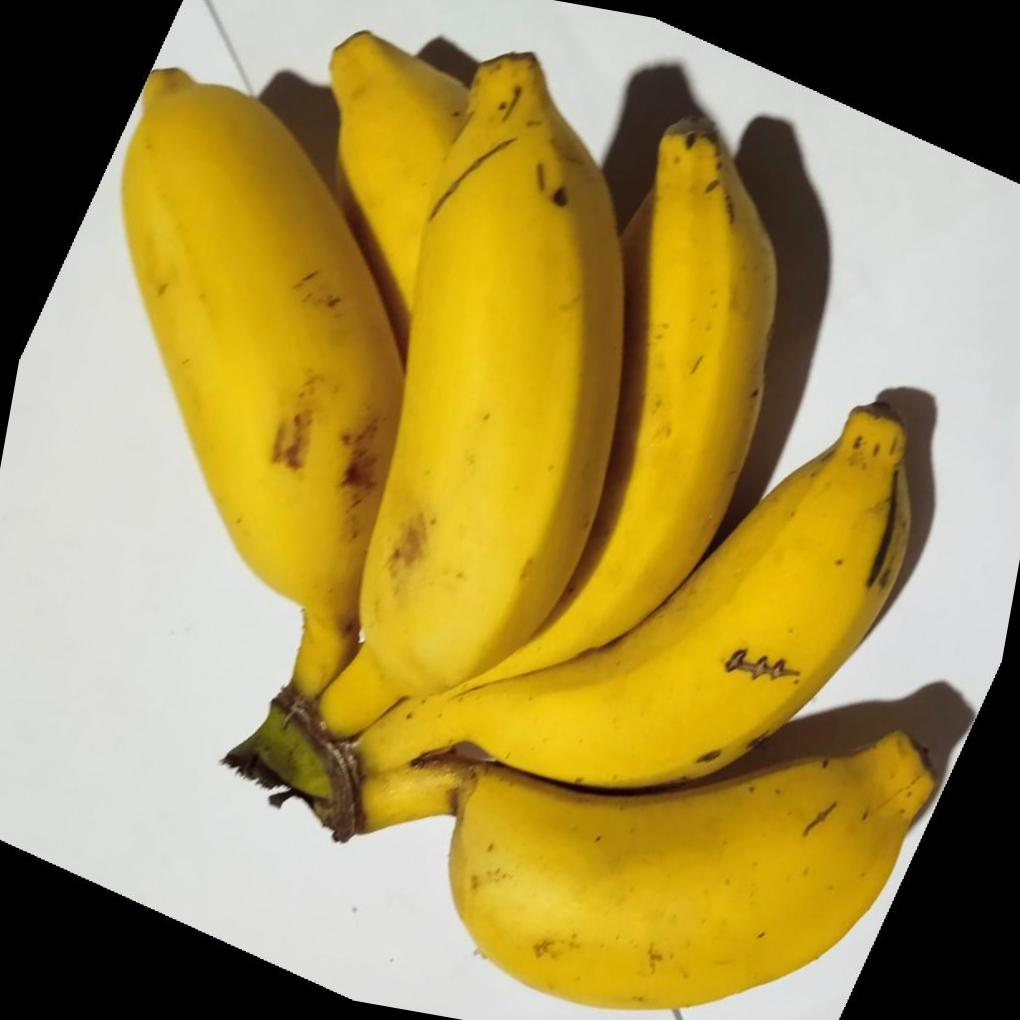Banana Ripe: (0, 0, 1020, 1020), (351, 324, 1013, 1020), (8, 31, 500, 820), (515, 106, 994, 902), (304, 34, 664, 814)
